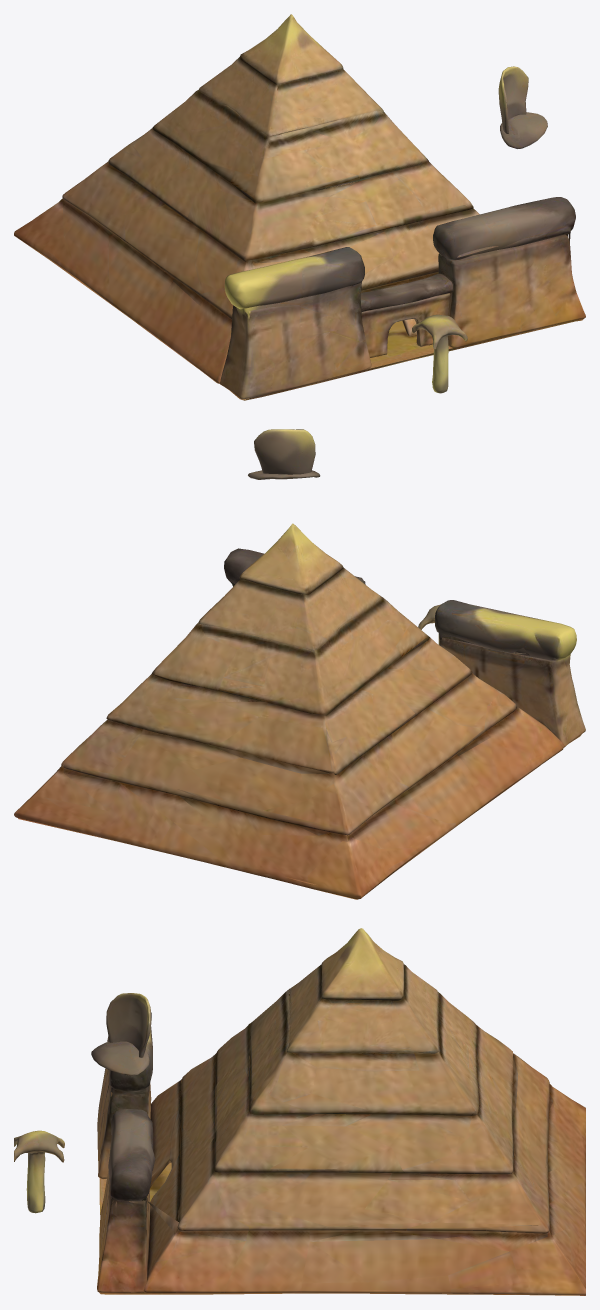
Rendered from site_pyramid.glb.
The picture shows the model from 3 angles, top to bottom: view 1: azimuth 30°, elevation 25°; view 2: azimuth 150°, elevation 25°; view 3: azimuth 270°, elevation 25°; orthographic projection. The views are drawn at different scales.
Bounding box in the file's own units: 0.7517 × 0.55 × 1.
1 material, 1 textured.
